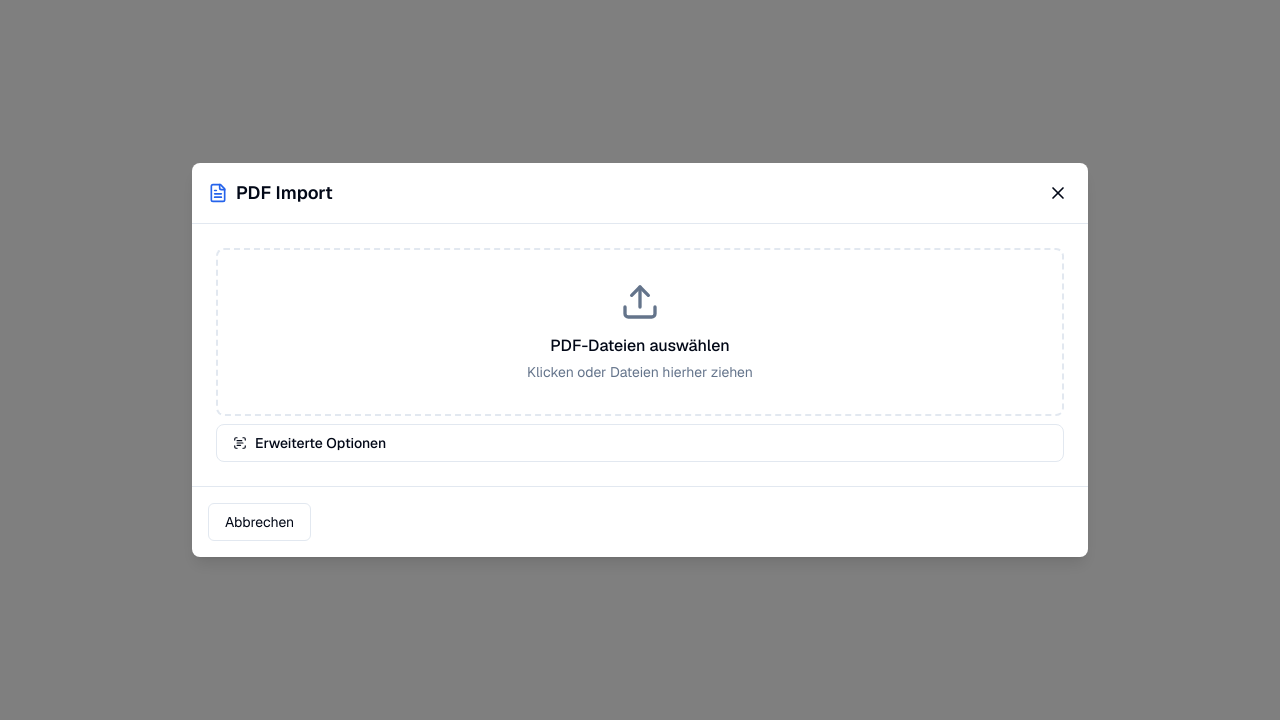
Test: PdfImportModal › Error Handling - File Selection › should display error when file dialog fails
The image size is (1280, 720).
Check: the text "PDF-Dateien auswählen" is shown, box x1=550 y1=335 x2=730 y2=356
Click the text "PDF-Dateien auswählen" at (640, 332), box x1=216 y1=248 x2=1064 y2=416
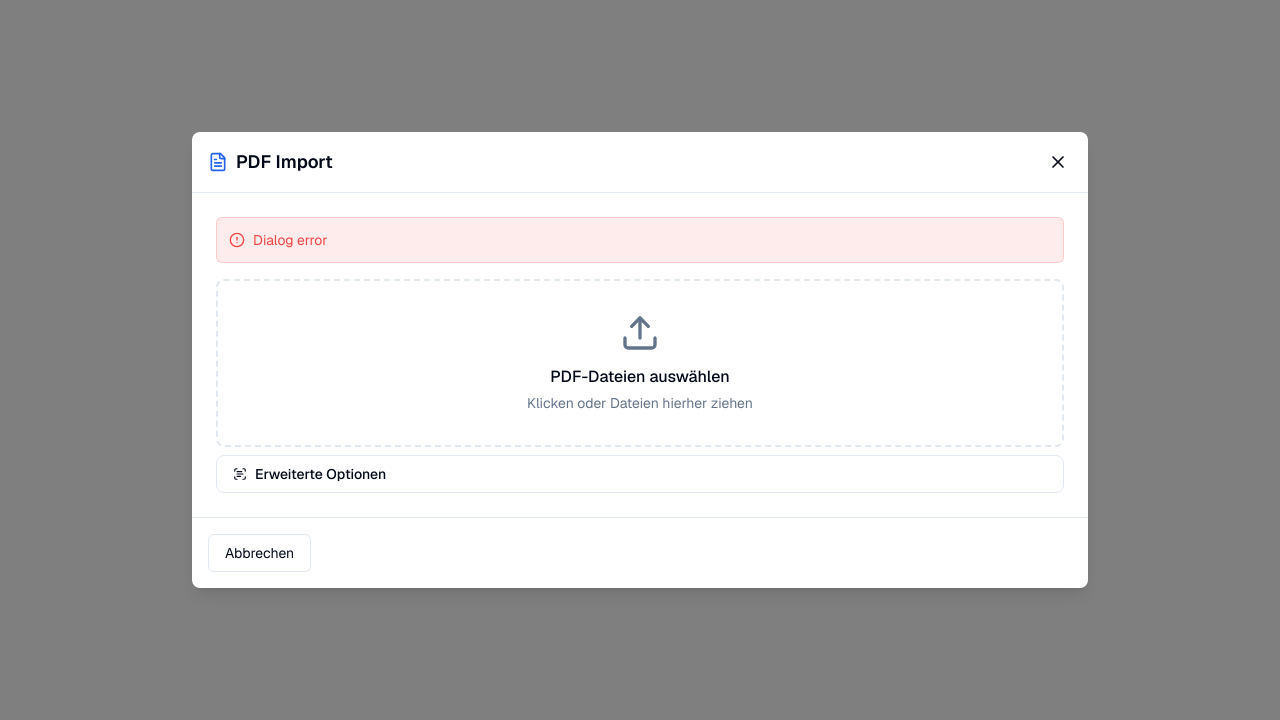
Check: the text "Dialog error" is shown, box x1=216 y1=217 x2=1064 y2=263
